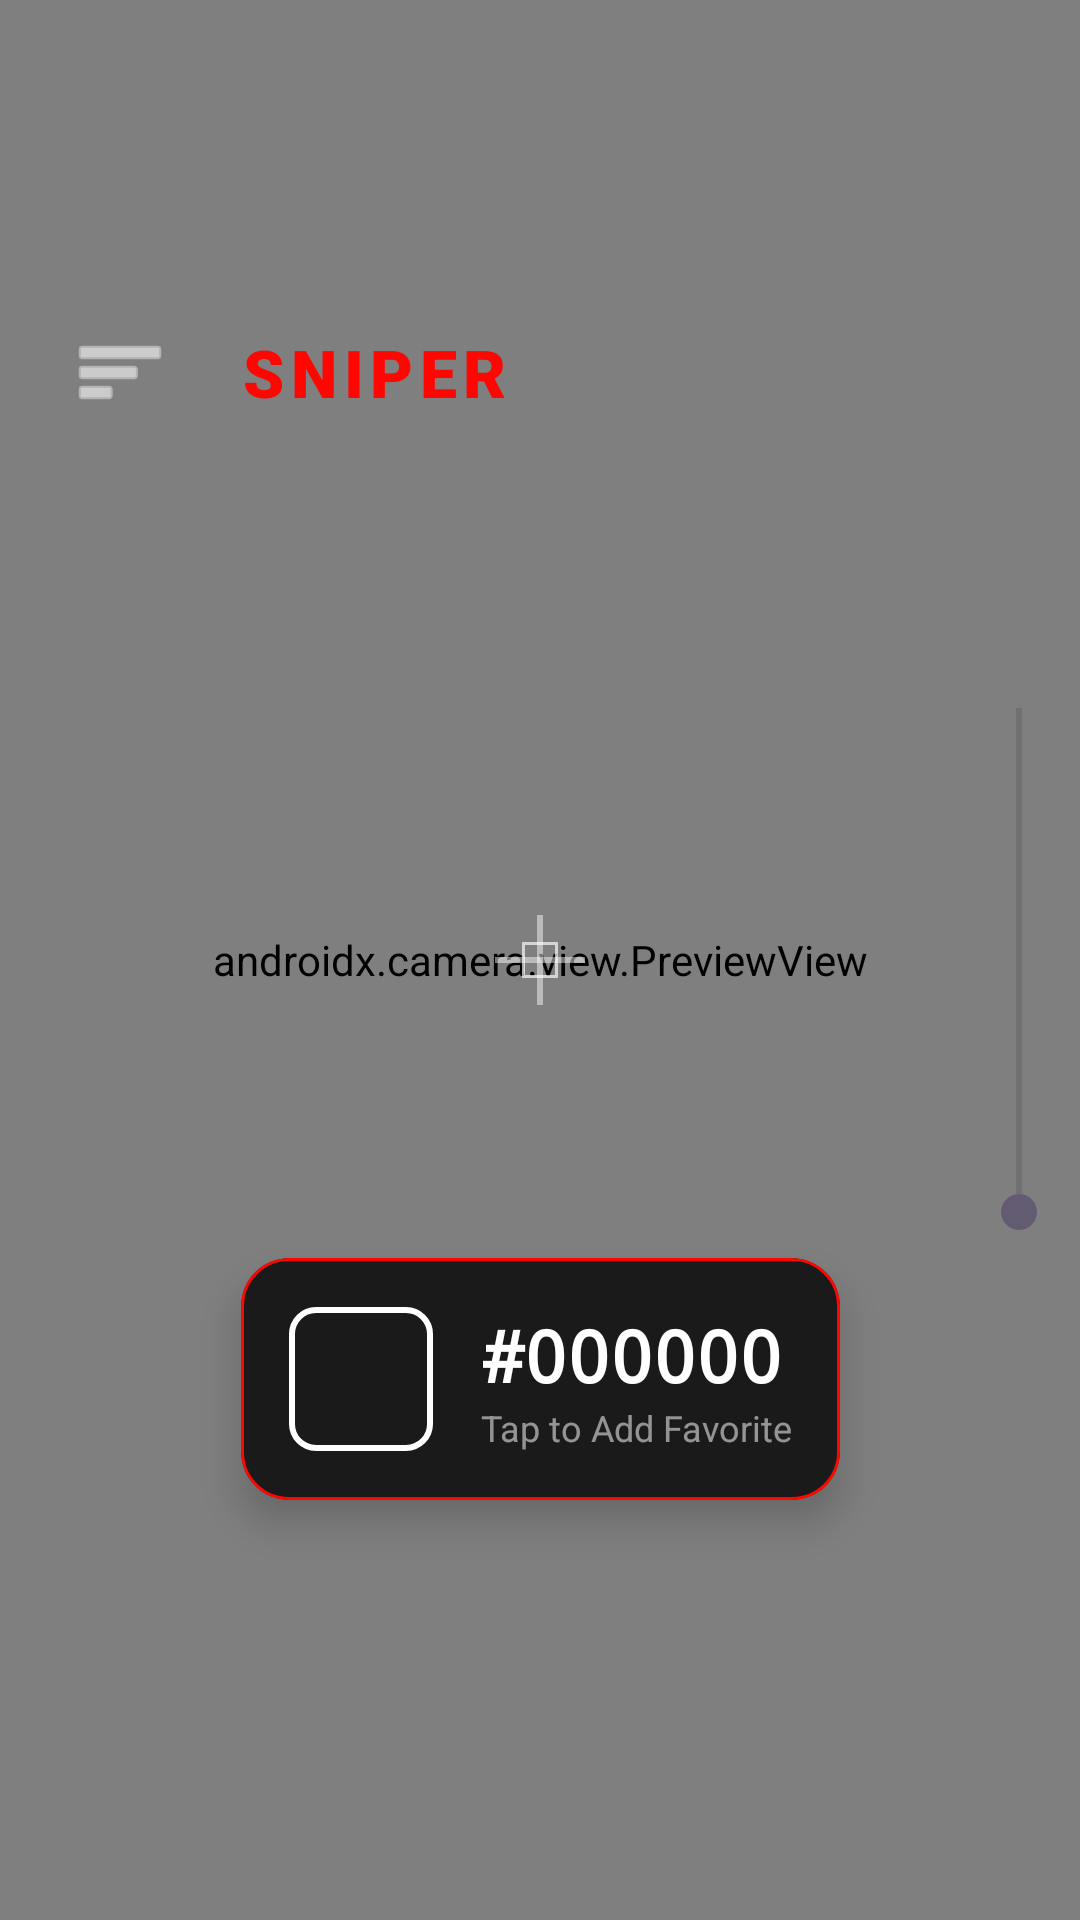

Named icons in this screenshot (1080 × 1920) and their bounding boxes, (x1, y1, x2, y2):
Open Menu: (79, 346, 161, 399)
